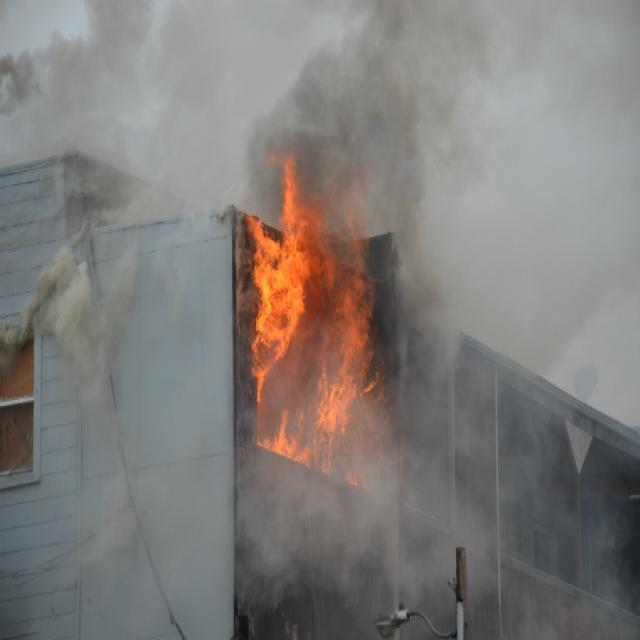Fire: (246, 146, 394, 487)
Smoke: (490, 0, 640, 375), (0, 0, 247, 217), (244, 0, 550, 161), (242, 456, 506, 610), (74, 394, 235, 631), (392, 154, 488, 500), (0, 217, 146, 394), (504, 457, 630, 640), (459, 365, 557, 497), (153, 213, 209, 316)
